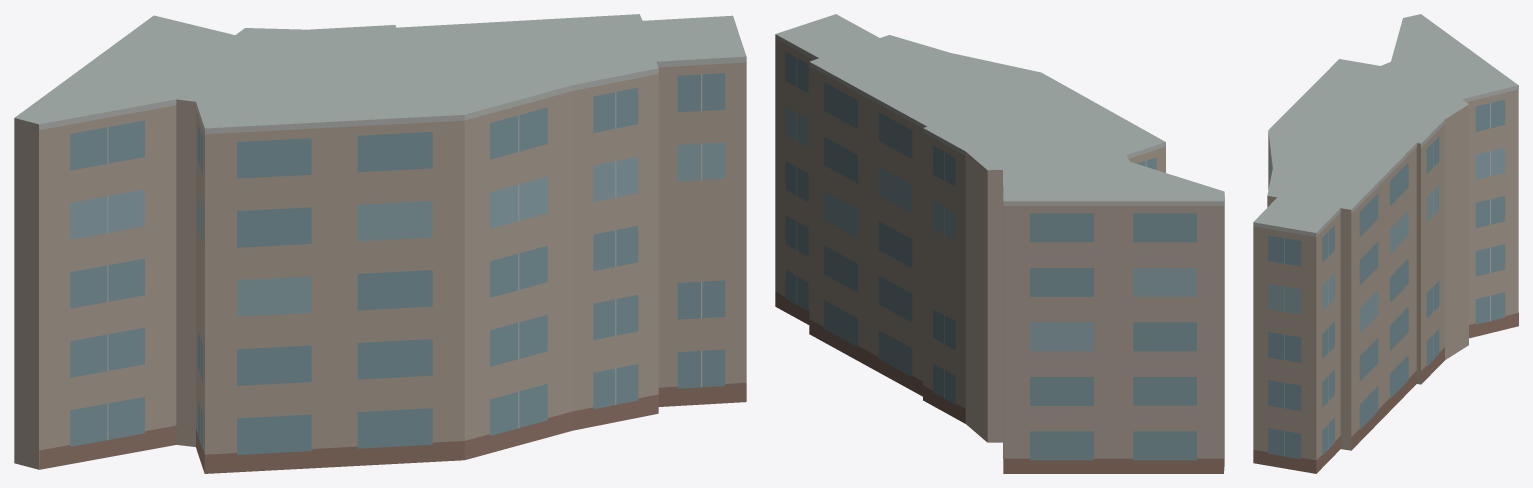
The model's file is survey-upis-32529489.glb.
The picture shows the model from 3 angles, left to right: view 1: azimuth 30°, elevation 25°; view 2: azimuth 150°, elevation 25°; view 3: azimuth 270°, elevation 25°; orthographic projection. The views are drawn at different scales.
Parts seen in each view (by area): view 1: survey-upis-32529489.tmp; view 2: survey-upis-32529489.tmp; view 3: survey-upis-32529489.tmp.
Boxes of the visible parts, x1,y1,x2,y2 form: survey-upis-32529489.tmp: (14,14,746,473); survey-upis-32529489.tmp: (775,14,1224,473); survey-upis-32529489.tmp: (1253,14,1518,473).
Bounding box in the file's own units: 28.48 × 14.6 × 14.6.
